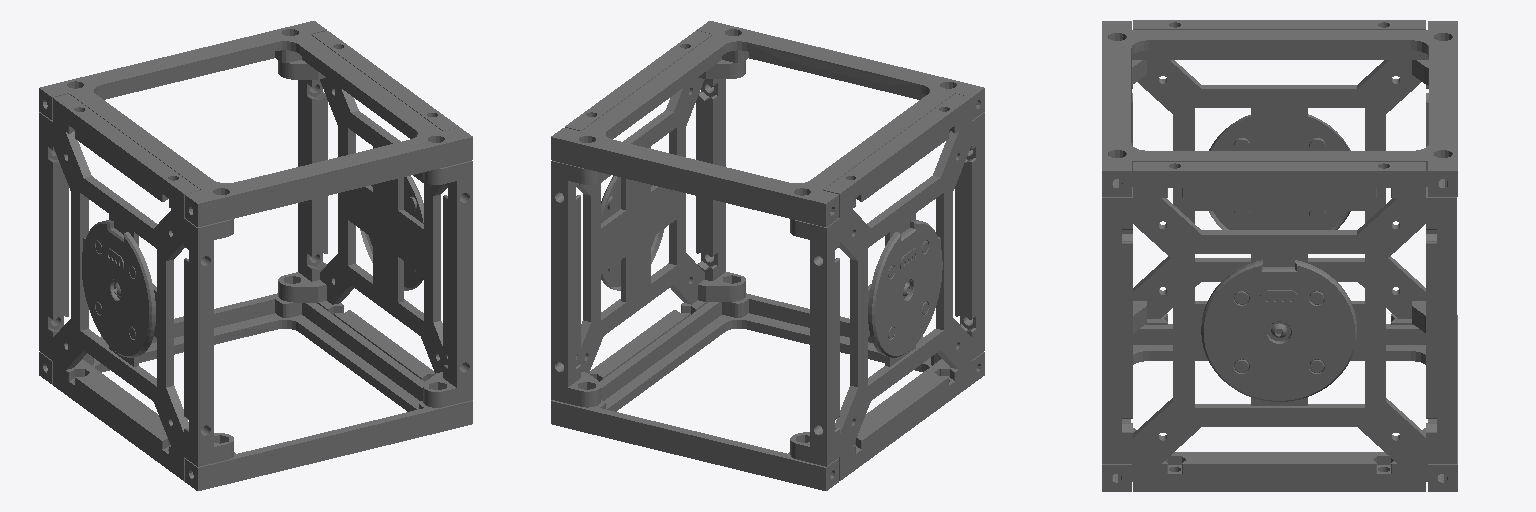
The robot description file, URDF, robot "CubeStructure":
<?xml version="1.0"?>
<robot name="CubeStructure">

  <link name="structure">
    <visual>
      <geometry>
        <mesh filename="BuildingBlocks_structure_block.stl" scale="0.1 0.1 0.1"/>
      </geometry>
      <material name="grey">
        <color rgba="0.5 0.5 0.5 1"/>
      </material>
    </visual>

    <collision>
      <geometry>
        <mesh filename="BuildingBlocks_structure_block.stl" scale="0.1 0.1 0.1"/>
      </geometry>
    </collision>

    <inertial>
      <mass value="0.1"/>
      <inertia ixx="0.01" ixy="0" ixz="0" iyy="0.01" iyz="0" izz="0.01"/>
      <origin xyz="0 0 0 " rpy="0 0 0"/>
    </inertial>
  </link>

</robot>

--- Render facts (derived) ---
The picture shows the robot from 3 angles, left to right: view 1: azimuth 30°, elevation 25°; view 2: azimuth 150°, elevation 25°; view 3: azimuth 270°, elevation 25°; orthographic projection.
Model CubeStructure with 1 links and 0 joints (none), rooted at structure, posed all joints at 0.
Visible links, largest first — view 1: structure; view 2: structure; view 3: structure.
Boxes of the visible links, box(x1,y1,x2,y2) form: structure: box(39, 21, 472, 490); structure: box(551, 21, 984, 490); structure: box(1102, 20, 1457, 491).
Bounding box of the posed robot: 0.1031 × 0.1003 × 0.1 m (x, y, z).
1 mesh visuals loaded from 1 distinct referenced files (1 binary STL).